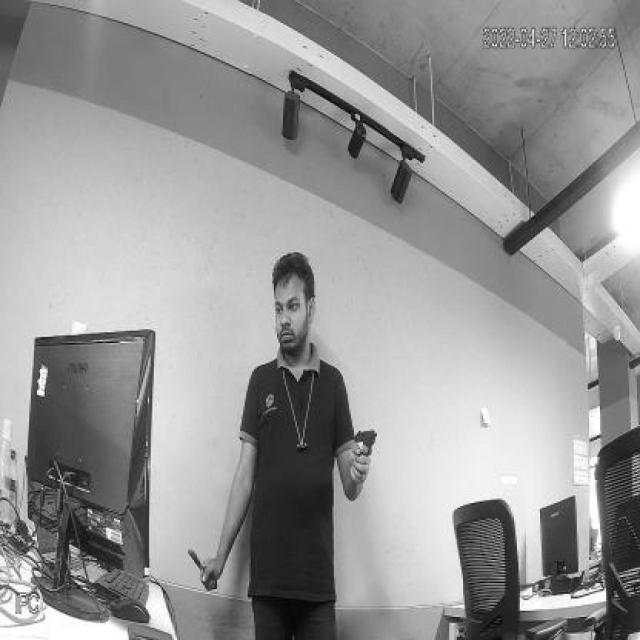weapon: (353, 427, 378, 470)
